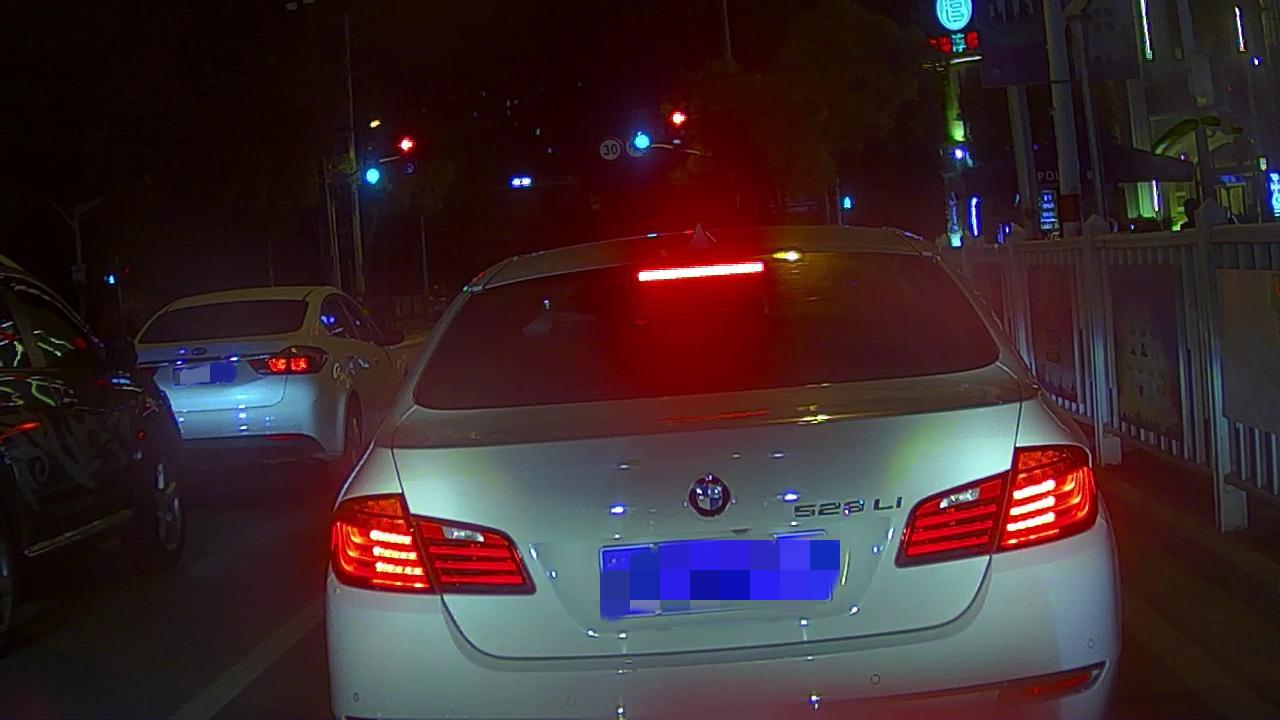traffic_light: (633, 111, 653, 154), (361, 162, 385, 192), (667, 105, 689, 131), (396, 134, 417, 159)
